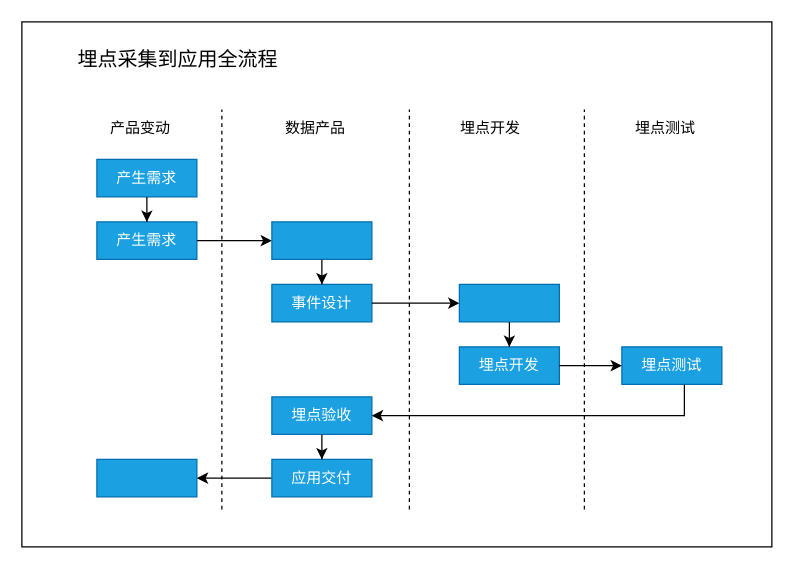
This 794x569 diagram has some shape labels left out. Each missing label, with the centre of its shape:
Review需求: [321,240]
埋点评审: [508,302]
数据应用: [146,477]
